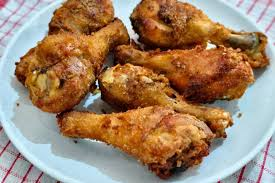Ayam goreng: (57, 106, 216, 181), (15, 18, 128, 113), (99, 64, 234, 140), (114, 44, 252, 101), (130, 1, 269, 51)
